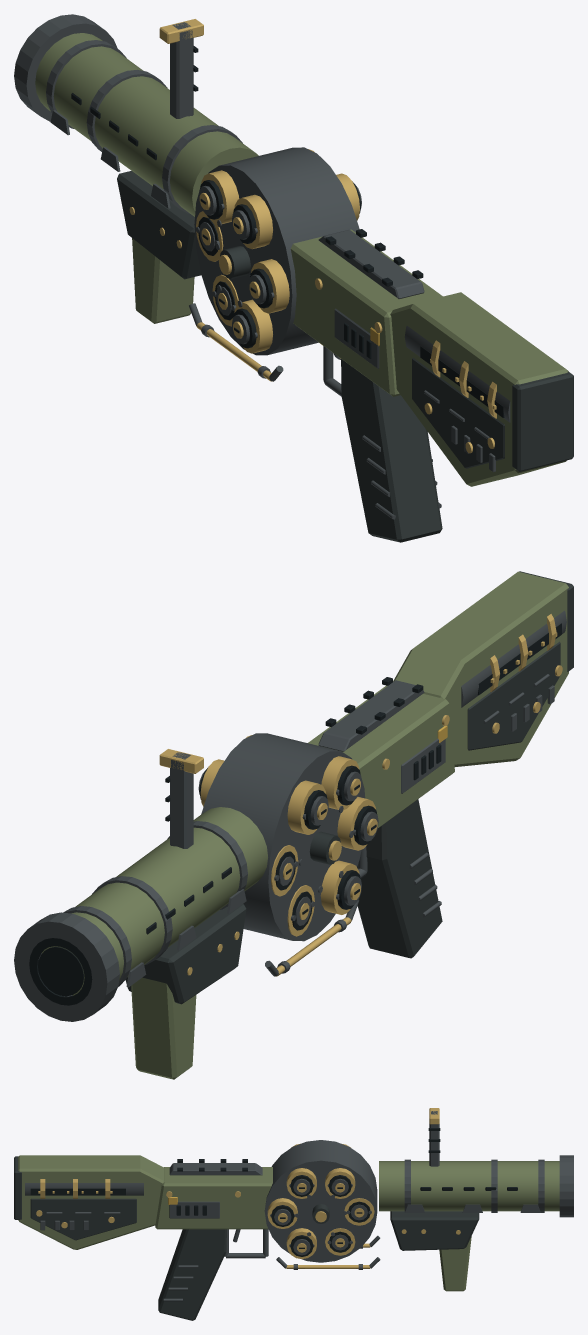
The model's file is grenade_4.glb.
3 views of the same model, one above another, from view 1: azimuth 30°, elevation 25°; view 2: azimuth 150°, elevation 25°; view 3: azimuth 270°, elevation 25° (orthographic). The views are drawn at different scales.
Parts seen in each view (by area): view 1: Weapon_grenade_v1; view 2: Weapon_grenade_v1; view 3: Weapon_grenade_v1.
Part boxes in pixels (x1,y1,x2,y2): Weapon_grenade_v1: (14, 14, 573, 542); Weapon_grenade_v1: (14, 571, 573, 1079); Weapon_grenade_v1: (14, 1108, 573, 1320).
Bounding box in the file's own units: 0.1114 × 0.3092 × 0.775.
